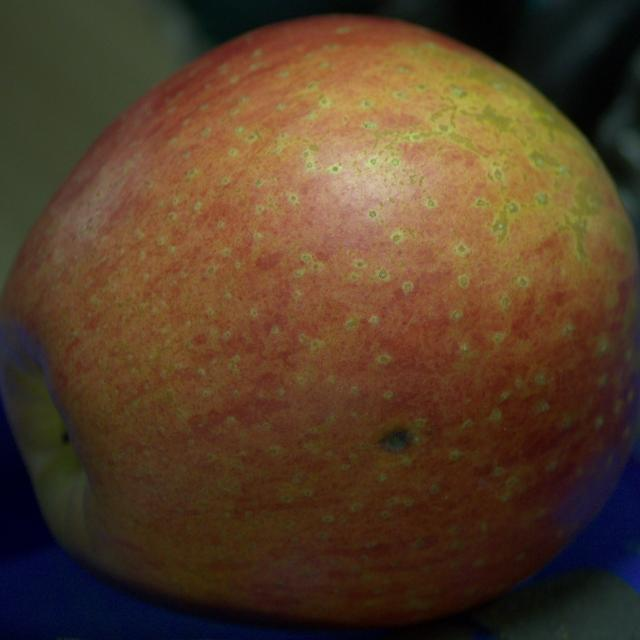apple: (0, 16, 639, 626)
pest: (379, 428, 414, 452)
